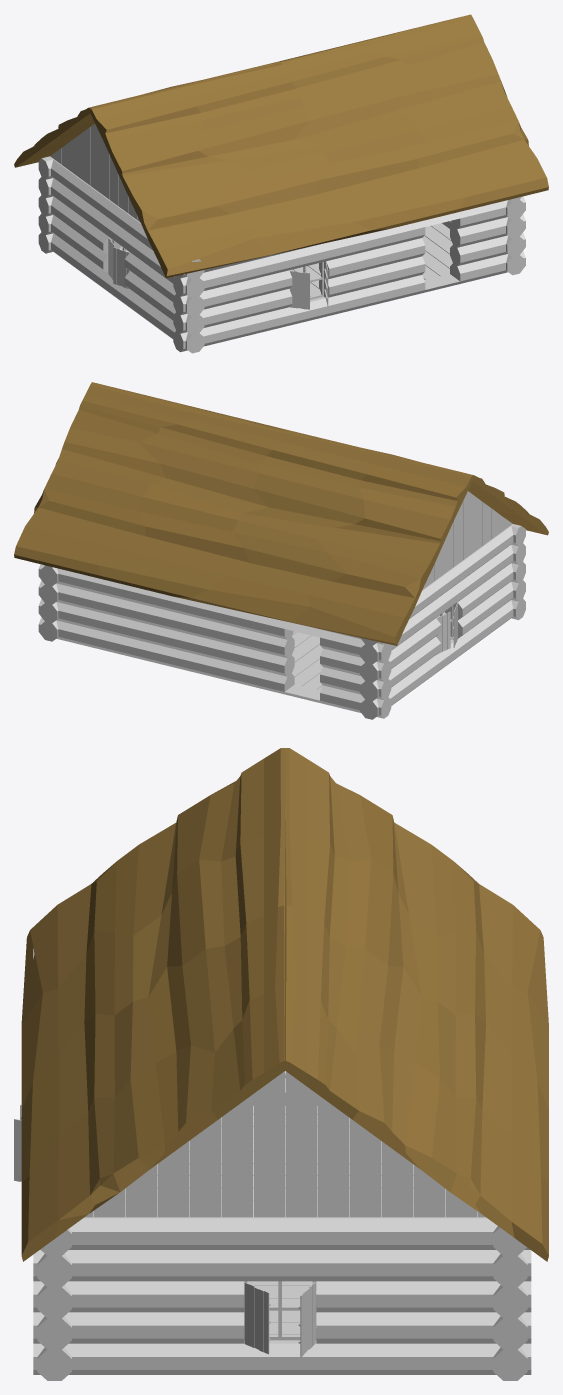
File: HouseSmithThatch.fbx
3 views of the same model, one above another, from view 1: azimuth 30°, elevation 25°; view 2: azimuth 150°, elevation 25°; view 3: azimuth 270°, elevation 25° (orthographic). The views are drawn at different scales.
Parts seen in each view (by area): view 1: Thatch_smith, wood_blacksmith; view 2: Thatch_smith, wood_blacksmith; view 3: Thatch_smith, wood_blacksmith.
Part boxes in pixels (left/top/right/bottom): Thatch_smith: left=14, top=14, right=548, bottom=278; wood_blacksmith: left=38, top=123, right=525, bottom=353; Thatch_smith: left=14, top=382, right=548, bottom=645; wood_blacksmith: left=38, top=491, right=525, bottom=719; Thatch_smith: left=21, top=748, right=548, bottom=1261; wood_blacksmith: left=14, top=948, right=531, bottom=1380.
Size of the model in its own units: 1084 by 537 by 776.
